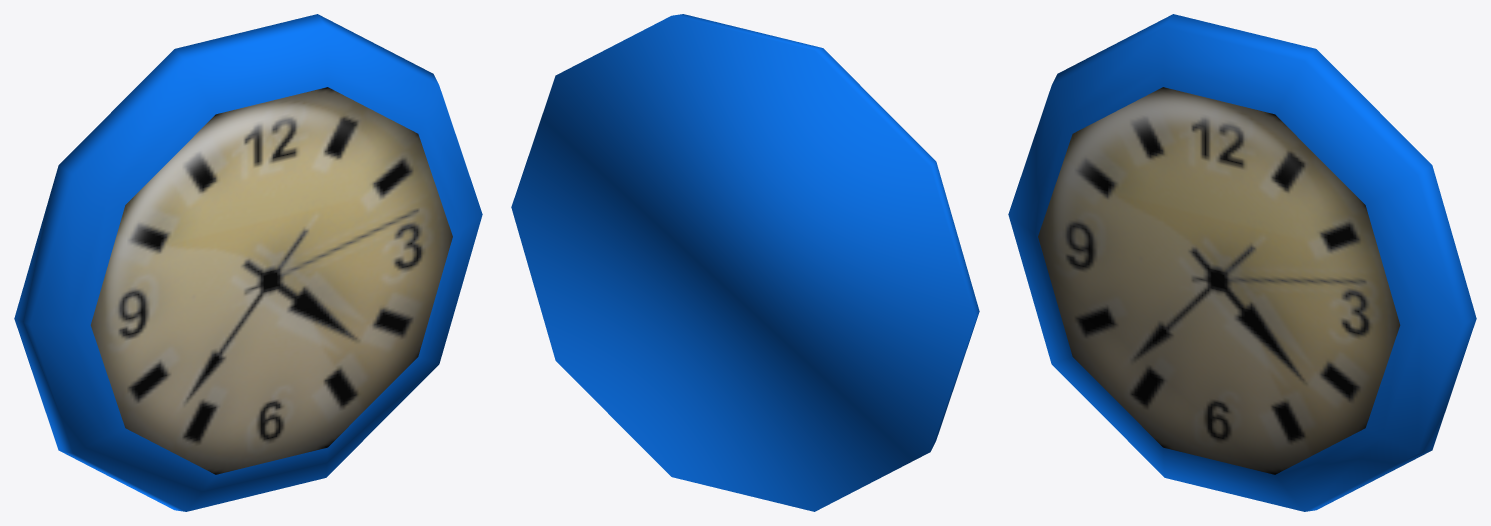
Rendered from Wall_Clock_H.FBX.
3 views of the same model, side by side, from view 1: azimuth 30°, elevation 25°; view 2: azimuth 150°, elevation 25°; view 3: azimuth 330°, elevation 25° (orthographic).
Visible parts, largest first — view 1: Wall_Clock; view 2: Wall_Clock; view 3: Wall_Clock.
Boxes of the visible parts, x1,y1,x2,y2 form: Wall_Clock: (14, 14, 482, 511); Wall_Clock: (511, 14, 979, 511); Wall_Clock: (1008, 14, 1476, 511).
Bounding box in the file's own units: 130 × 124 × 12.52.
